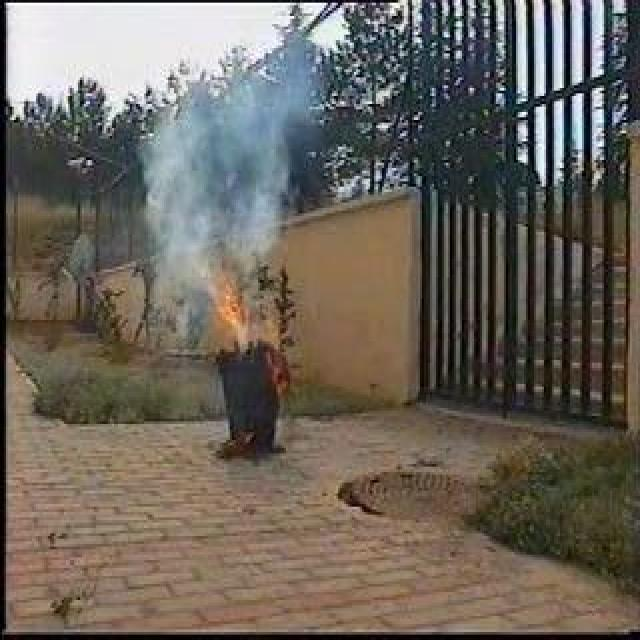fire: (214, 268, 255, 342)
smoke: (131, 55, 315, 244)
